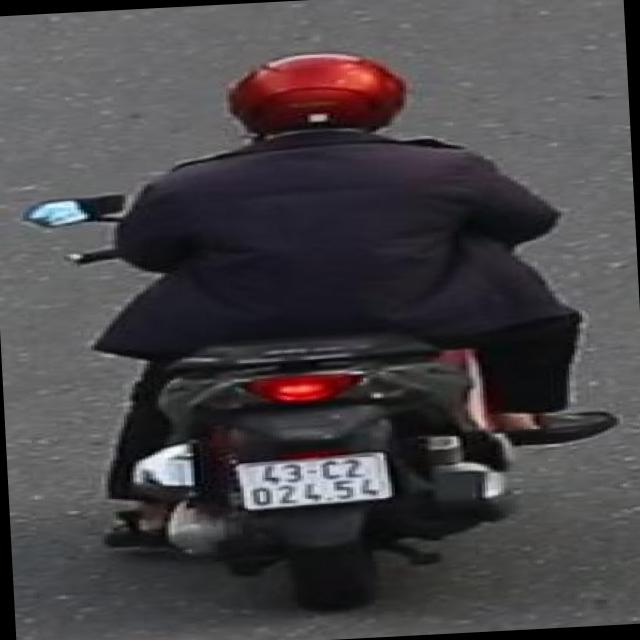LP: (226, 448, 402, 514)
helmet: (218, 44, 423, 168)
